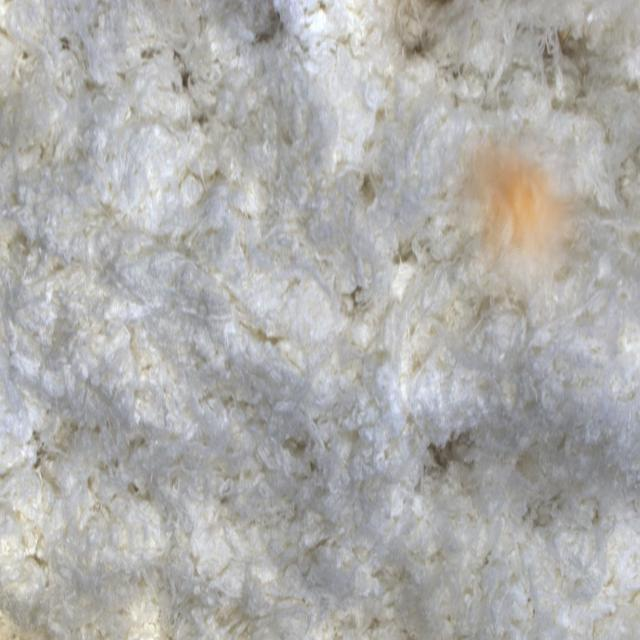dust: (440, 128, 594, 327)
